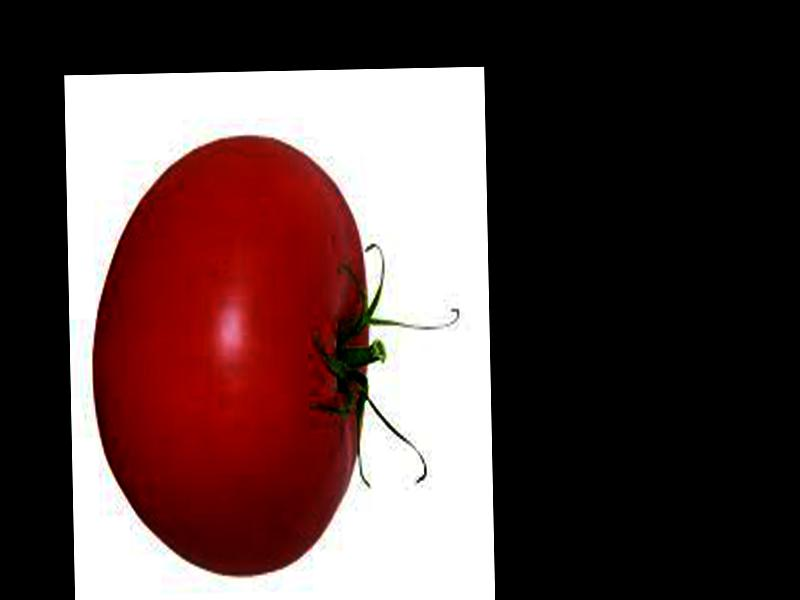Tomato: (89, 130, 375, 577)
